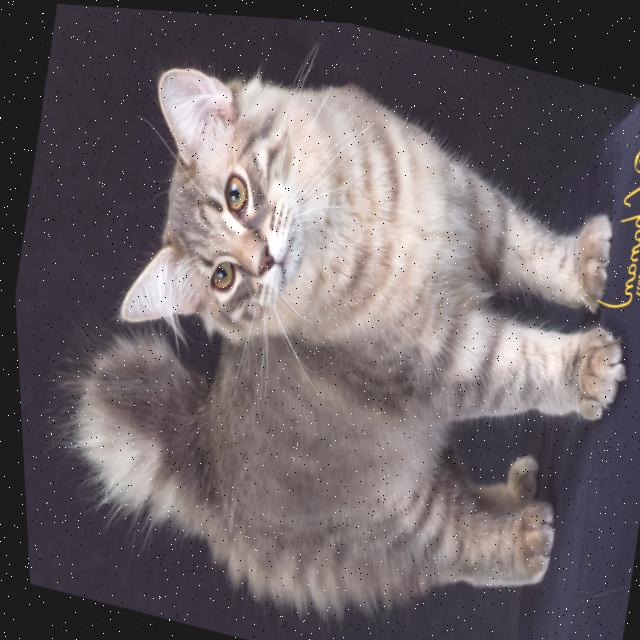American Bobtail: (18, 11, 640, 640)
